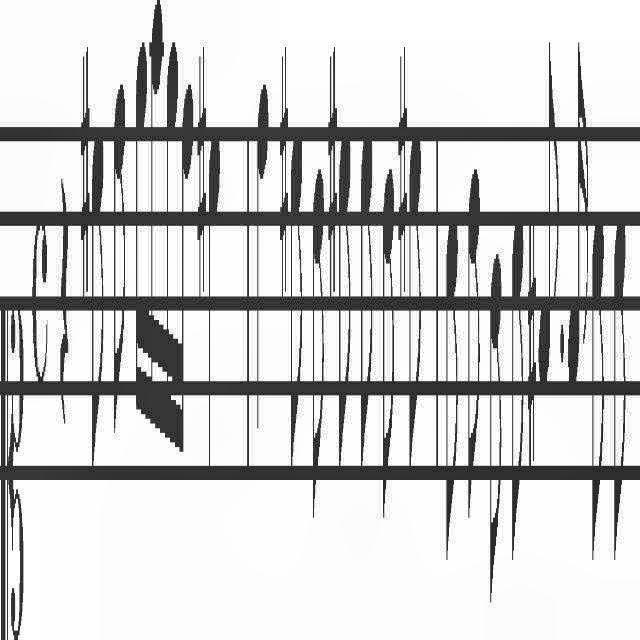Diez: (526, 206, 538, 482), (278, 33, 290, 303), (80, 45, 92, 303), (327, 42, 337, 306), (398, 41, 408, 302), (196, 45, 206, 303)
Eighth-note: (538, 49, 560, 407), (589, 199, 607, 579), (510, 196, 526, 592), (90, 114, 106, 506), (358, 124, 374, 516), (338, 127, 354, 510), (288, 124, 304, 494), (488, 240, 504, 608), (613, 205, 627, 601), (311, 155, 325, 529), (467, 171, 481, 541), (113, 77, 127, 441), (445, 208, 459, 570), (382, 156, 394, 548), (410, 124, 422, 512)
Quarter-note: (256, 70, 270, 453), (208, 111, 222, 485)
Quarter-rest: (58, 172, 70, 444)
Sixteenth-note: (566, 45, 590, 403), (162, 32, 178, 472), (132, 40, 148, 472), (178, 71, 194, 472), (149, 2, 163, 450)
